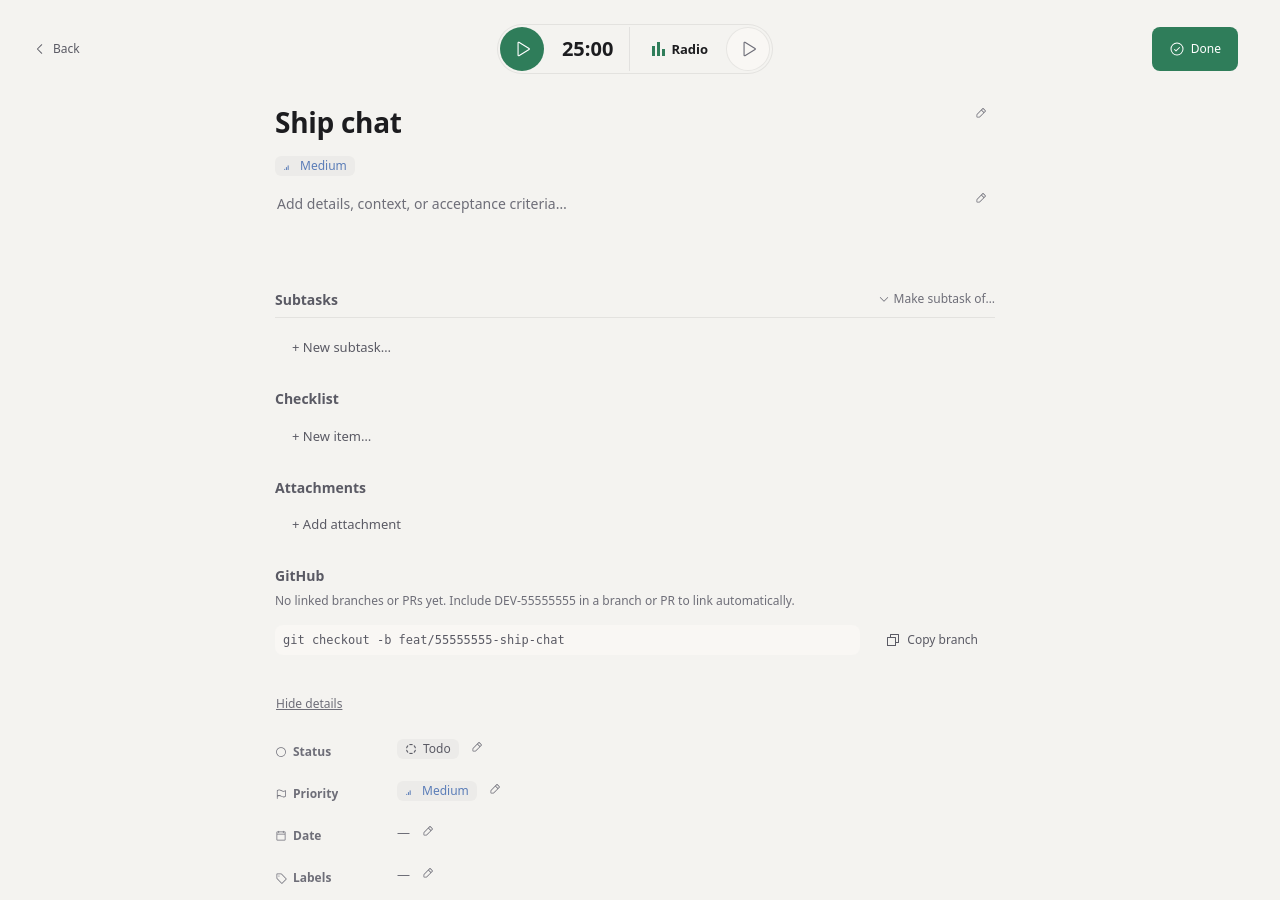
FocusPage › props toggle collapses the 10-row properties list
What coordinates should you click on to do the following:
click the button "Hide details"
I would click on:
 (317, 704)
Its box is [275,682,359,726].
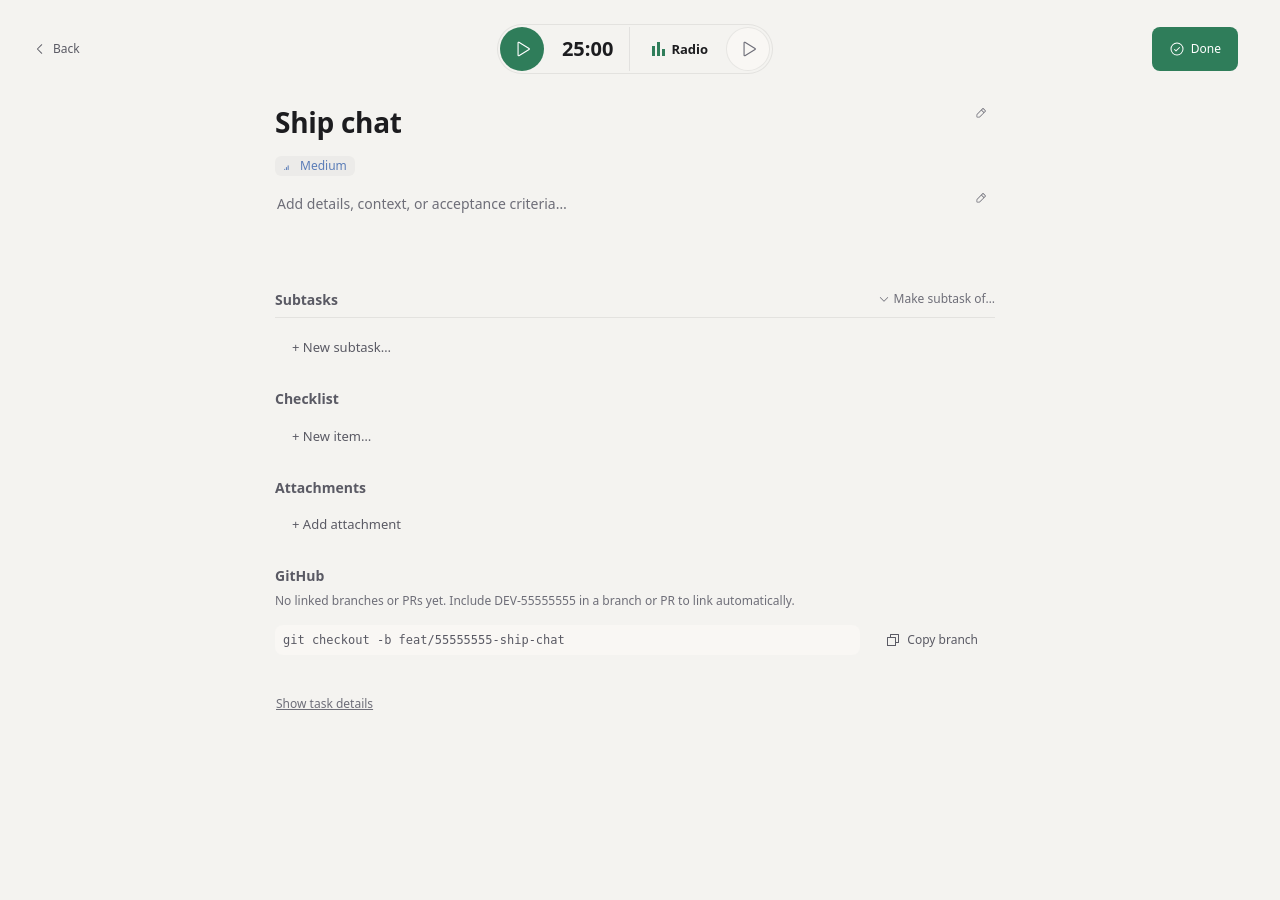
What coordinates should you click on to do the following:
click the button "Show task details"
I would click on:
 (333, 704)
Its box is [275,682,390,726].
(page scrolled)
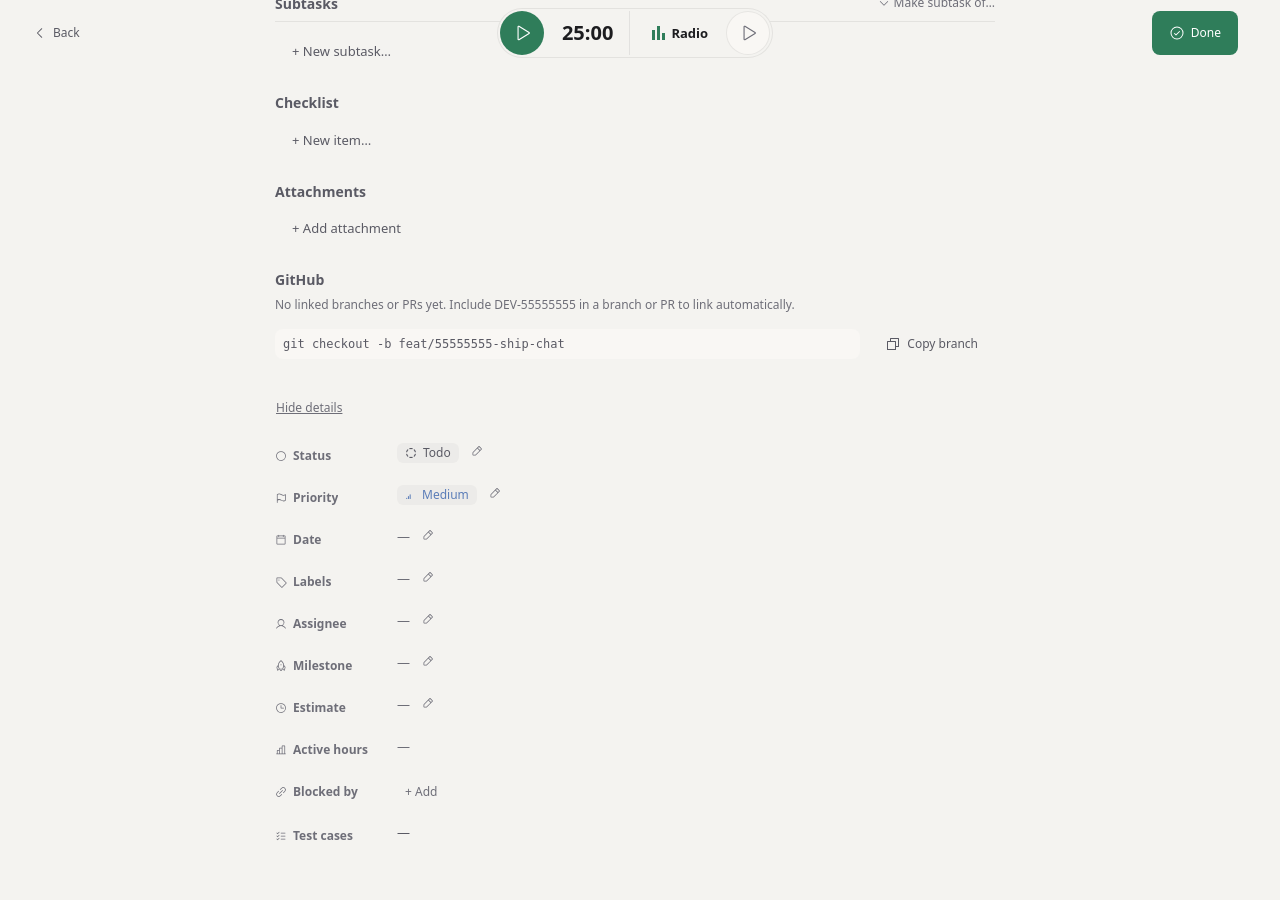
Check: the element with class "focus-detail-props" is shown, box [275,441,501,844]
Check: the element with class "focus-detail-props" shows "Status", box [275,441,385,465]
Check: the element with class "focus-detail-props" shows "Test cases", box [293,827,353,844]
